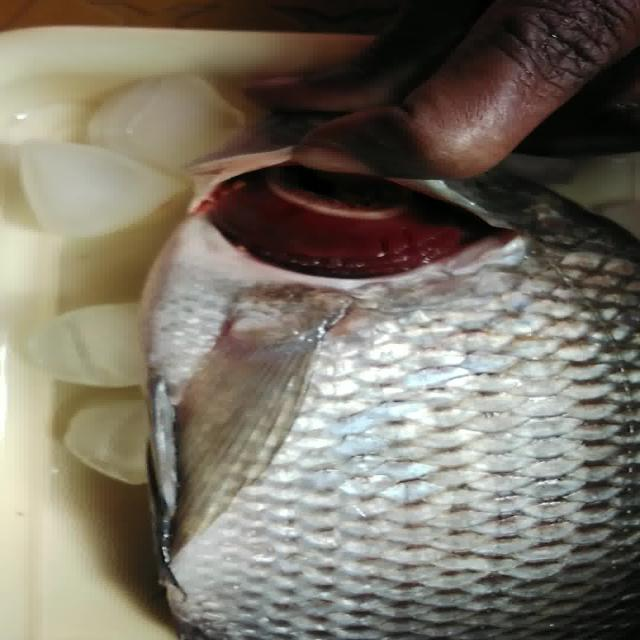Fresh: (184, 176, 524, 311)
